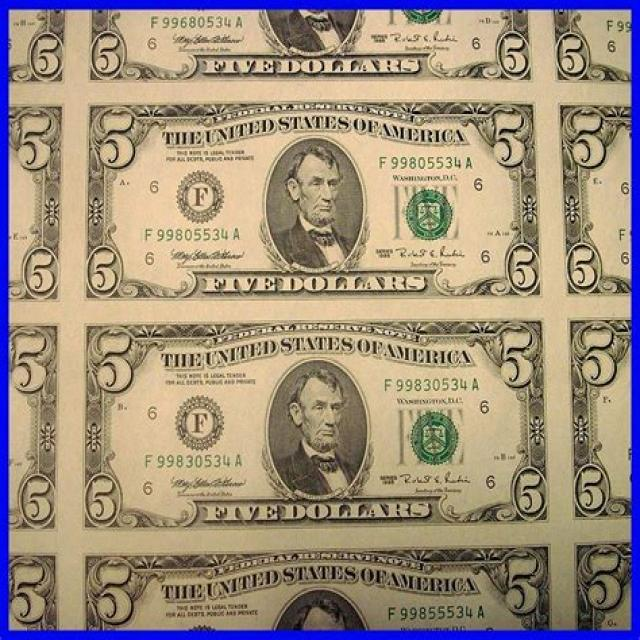Five: (72, 312, 557, 542), (77, 96, 555, 309), (76, 540, 562, 628), (80, 10, 542, 94)
